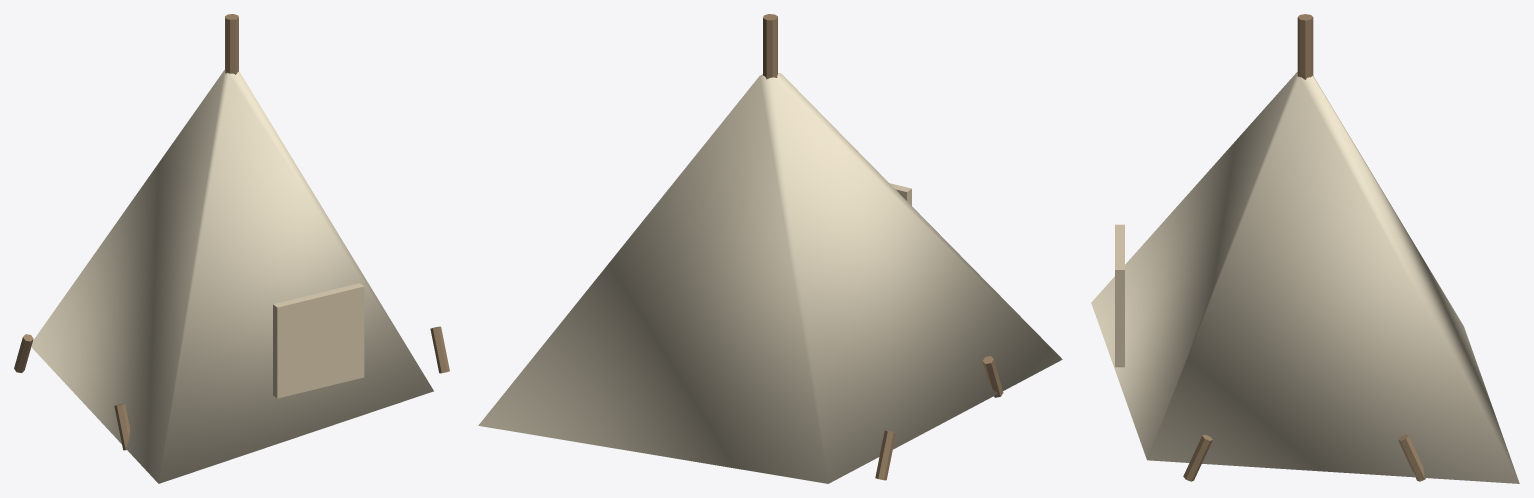
File: tent.glb
3 views of the same model, side by side, from view 1: azimuth 30°, elevation 25°; view 2: azimuth 150°, elevation 25°; view 3: azimuth 270°, elevation 25° (orthographic). The views are drawn at different scales.
Visible parts, largest first — view 1: TentBody, Flap, Pole, Peg.003, Peg.002; view 2: TentBody, Pole, Peg; view 3: TentBody, Flap, Pole, Peg.003, Peg.001.
Part boxes in pixels (x1,y1,x2,y2): TentBody: [31, 70, 433, 483]; Flap: [273, 283, 364, 398]; Pole: [225, 14, 238, 74]; Peg.003: [430, 326, 449, 373]; Peg.002: [114, 403, 129, 450]; TentBody: [478, 73, 1062, 483]; Pole: [763, 14, 777, 79]; Peg: [875, 430, 895, 480]; TentBody: [1091, 72, 1519, 483]; Flap: [1115, 224, 1124, 367]; Pole: [1297, 14, 1313, 79]; Peg.003: [1183, 435, 1212, 481]; Peg.001: [1398, 435, 1425, 481].
Size of the model in its own units: 2.2 by 2.15 by 2.2.
